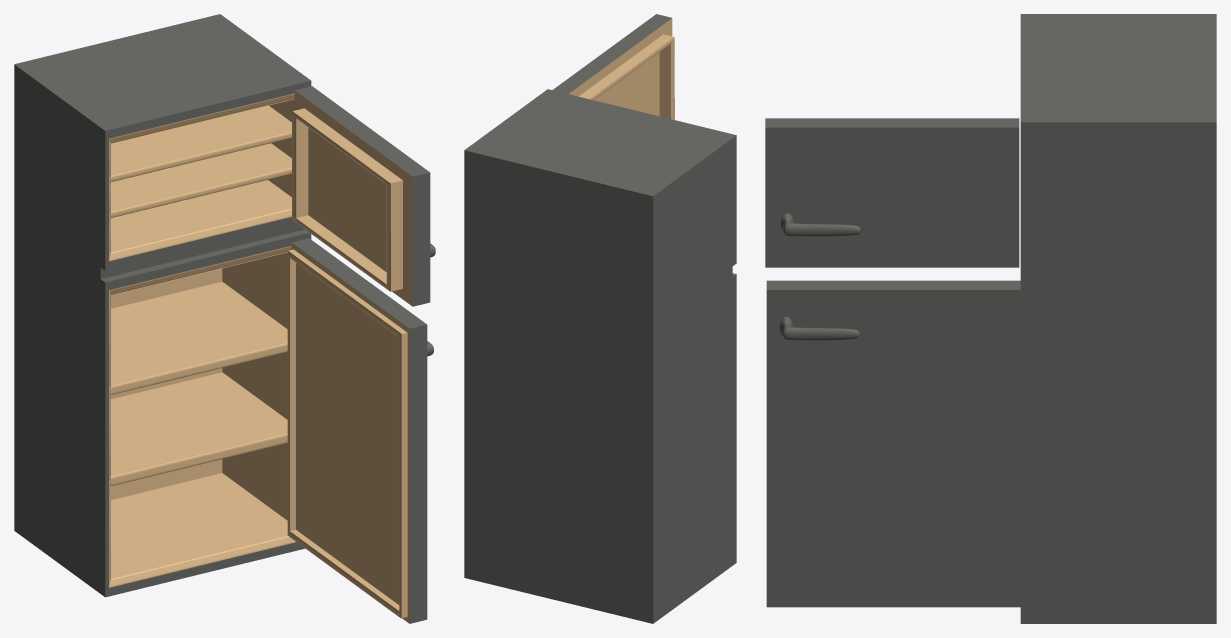
File: Køleskabåben.fbx
3 renders of one model, left to right at view 1: azimuth 30°, elevation 25°; view 2: azimuth 150°, elevation 25°; view 3: azimuth 270°, elevation 25°, orthographic. The views are drawn at different scales.
Parts seen in each view (by area): view 1: Fridge.001, Fridge door.001, Cooler.001; view 2: Fridge.001, Cooler.001; view 3: Fridge.001, Fridge door.001, Cooler.001, Fridge Handle.002, Fridge Handle.003.
Boxes of the visible parts, x1=… form: Fridge.001: x1=14, y1=14, x2=311, y2=597; Fridge door.001: x1=287, y1=238, x2=427, y2=623; Cooler.001: x1=292, y1=86, x2=430, y2=306; Fridge.001: x1=464, y1=89, x2=736, y2=623; Cooler.001: x1=552, y1=14, x2=674, y2=119; Fridge.001: x1=1020, y1=14, x2=1216, y2=623; Fridge door.001: x1=766, y1=280, x2=1020, y2=607; Cooler.001: x1=765, y1=118, x2=1019, y2=267; Fridge Handle.002: x1=779, y1=317, x2=859, y2=340; Fridge Handle.003: x1=780, y1=213, x2=860, y2=236.
Size of the model in its own units: 152 by 305 by 249.
